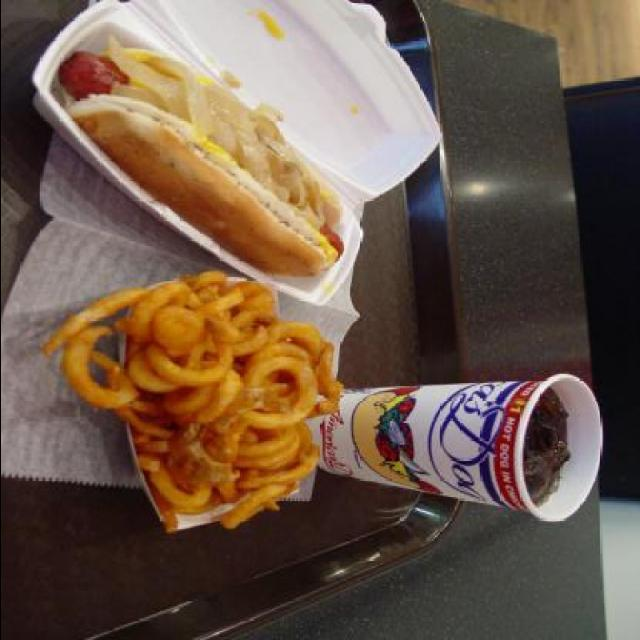Hot dog: (48, 58, 364, 296)
